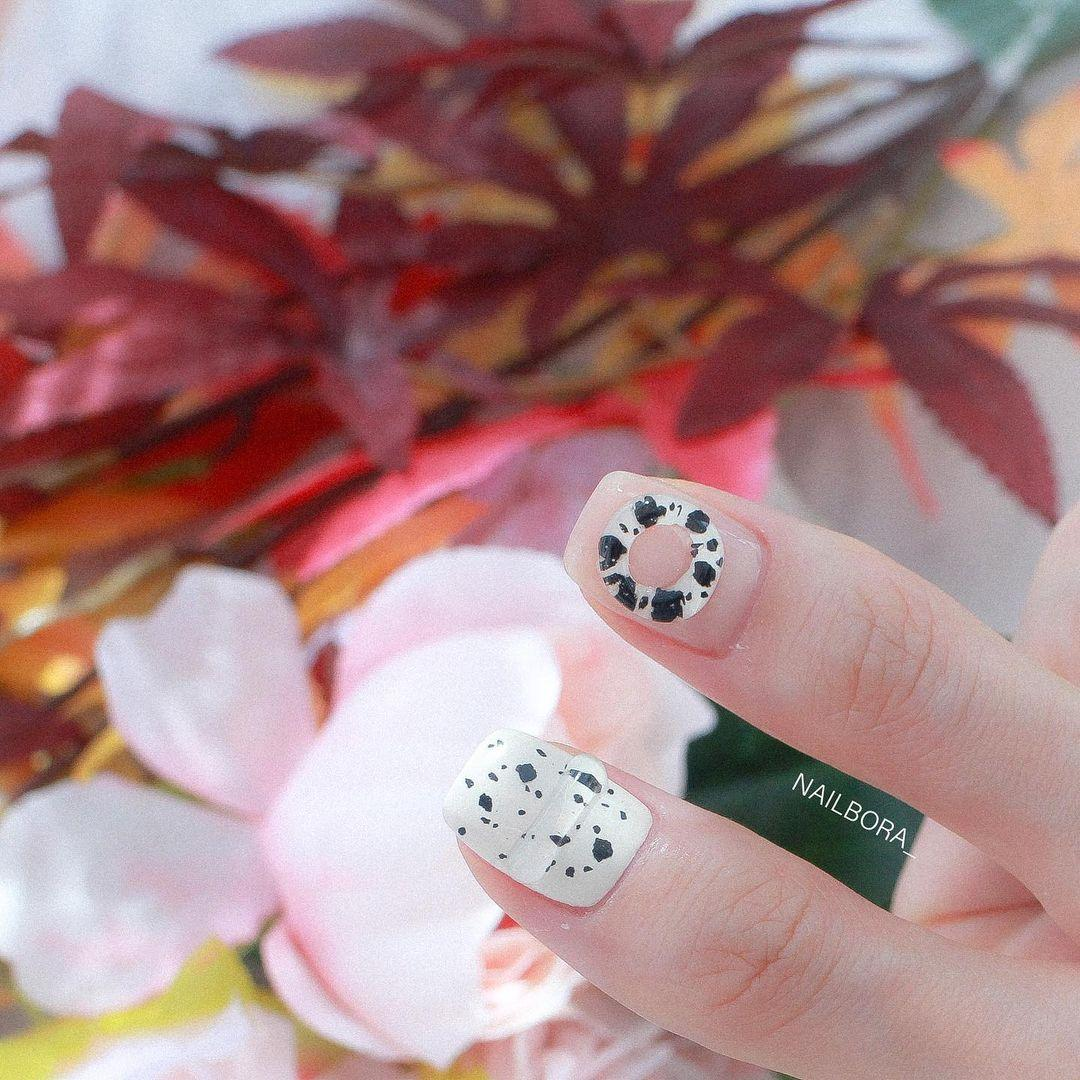nail: (442, 726, 653, 914), (562, 468, 766, 658)
